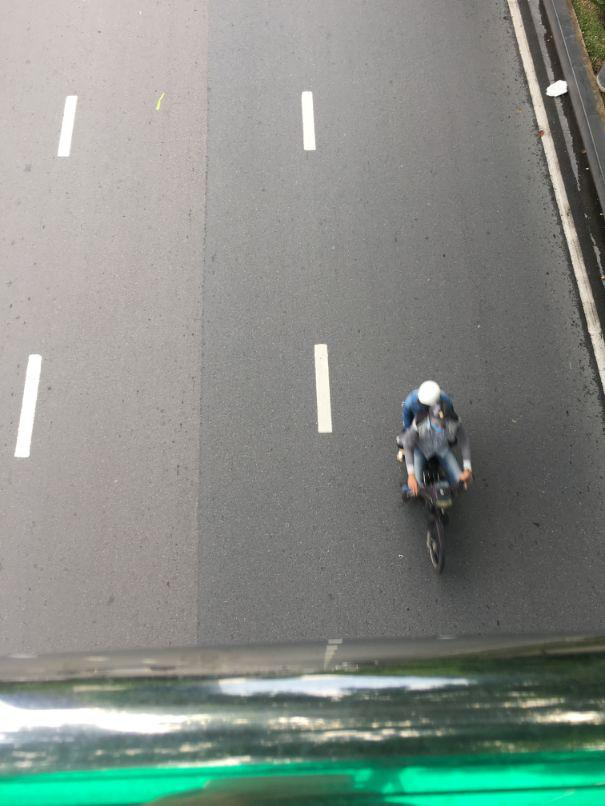motorbike: (417, 452, 453, 573)
